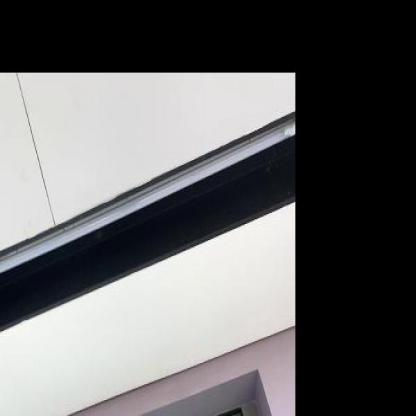light_off: (0, 103, 293, 382)
